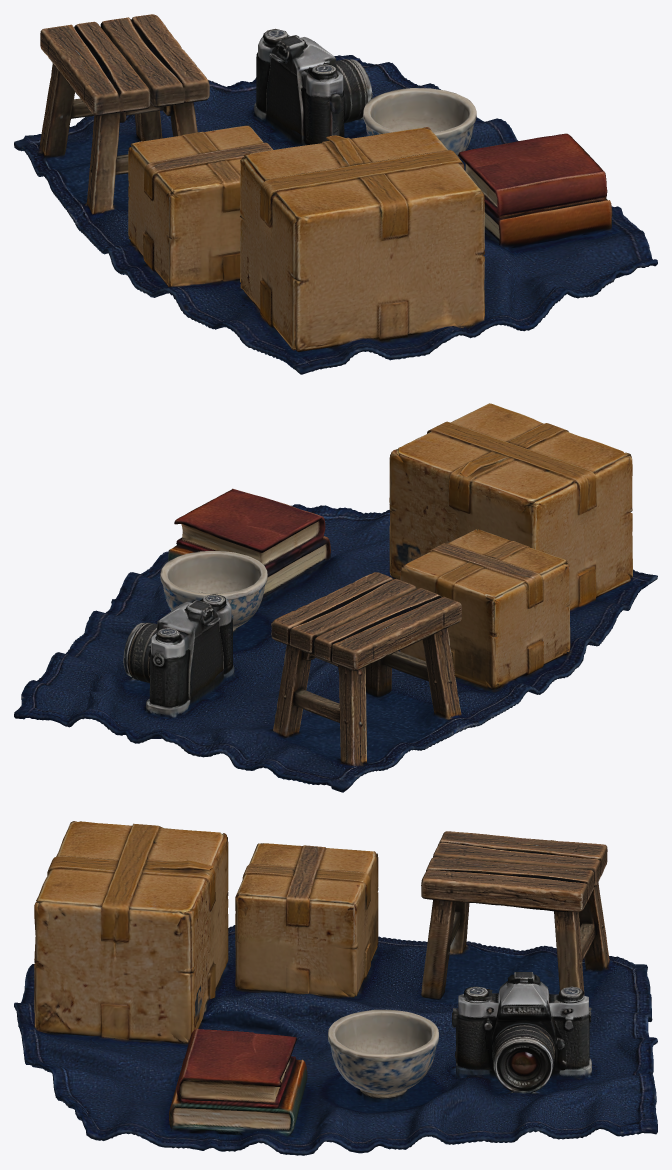
File: level-0-web.glb
The picture shows the model from 3 angles, top to bottom: view 1: azimuth 30°, elevation 25°; view 2: azimuth 150°, elevation 25°; view 3: azimuth 270°, elevation 25°; orthographic projection. The views are drawn at different scales.
Visible parts, largest first — view 1: tripo_node_058df9b3-5e0f-4629-be6f-3d87cc27c201; view 2: tripo_node_058df9b3-5e0f-4629-be6f-3d87cc27c201; view 3: tripo_node_058df9b3-5e0f-4629-be6f-3d87cc27c201.
Boxes of the visible parts, box(x1,y1,x2,y2) form: tripo_node_058df9b3-5e0f-4629-be6f-3d87cc27c201: box(14, 14, 657, 374); tripo_node_058df9b3-5e0f-4629-be6f-3d87cc27c201: box(14, 403, 657, 792); tripo_node_058df9b3-5e0f-4629-be6f-3d87cc27c201: box(14, 821, 657, 1155).
Bounding box in the file's own units: 0.7796 × 0.2561 × 0.9805.
Materials: 1 (1 with a texture image).
